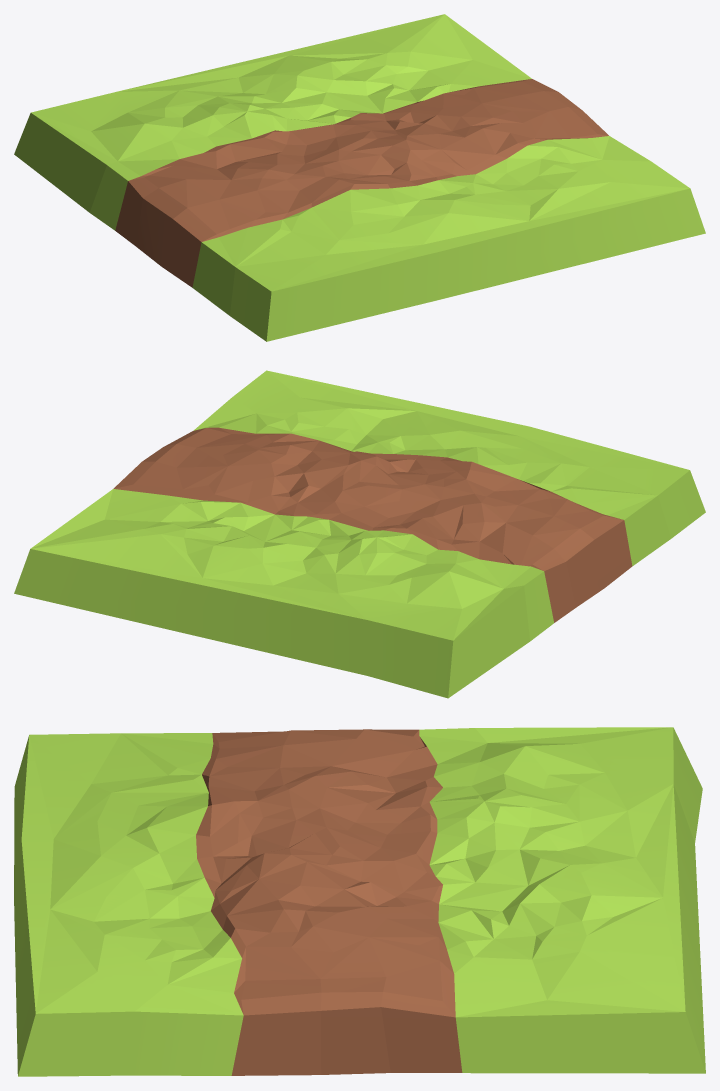
Rendered from Floor_Path.obj.
The picture shows the model from 3 angles, top to bottom: view 1: azimuth 30°, elevation 25°; view 2: azimuth 150°, elevation 25°; view 3: azimuth 270°, elevation 25°; orthographic projection. The views are drawn at different scales.
Parts seen in each view (by area): view 1: PP_Meadow_Path_05; view 2: PP_Meadow_Path_05; view 3: PP_Meadow_Path_05.
Boxes of the visible parts, x1,y1,x2,y2 form: PP_Meadow_Path_05: (14, 14, 705, 341); PP_Meadow_Path_05: (14, 370, 705, 698); PP_Meadow_Path_05: (14, 727, 705, 1076).
Size of the model in its own units: 22.75 by 3.33 by 22.85.
1 material, 1 textured.
